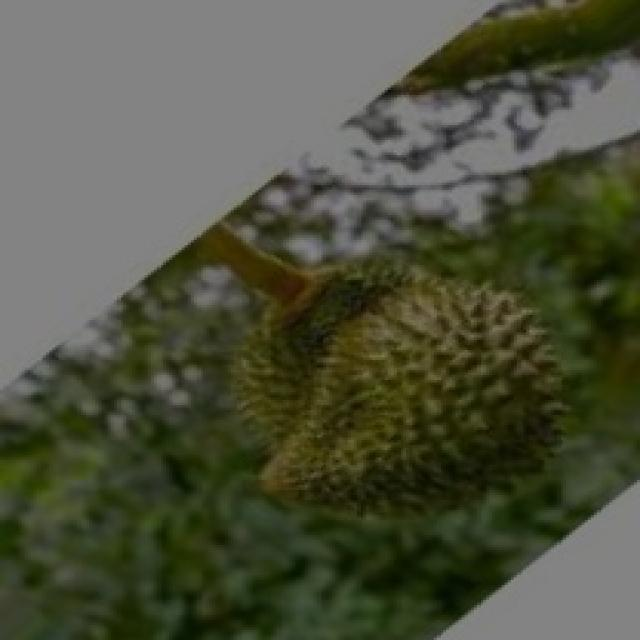fruit: (212, 225, 616, 605)
